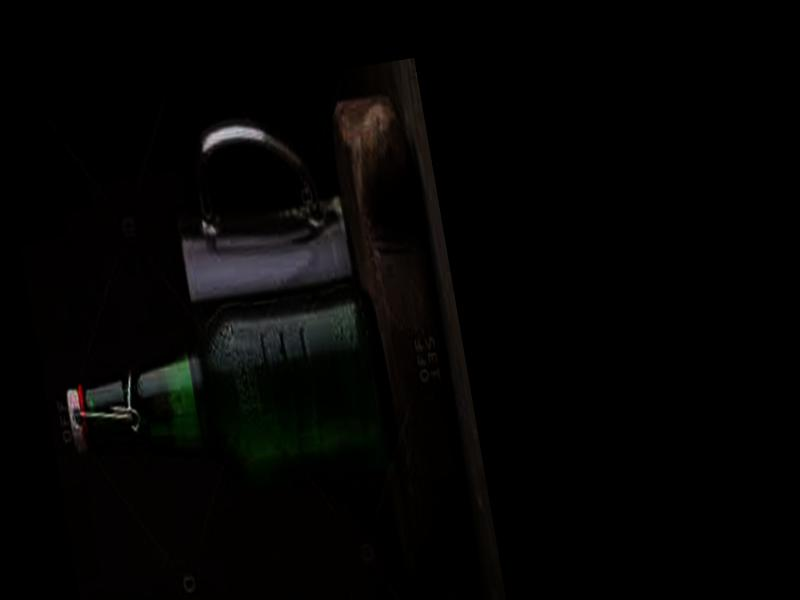Beer: (56, 285, 400, 513)
